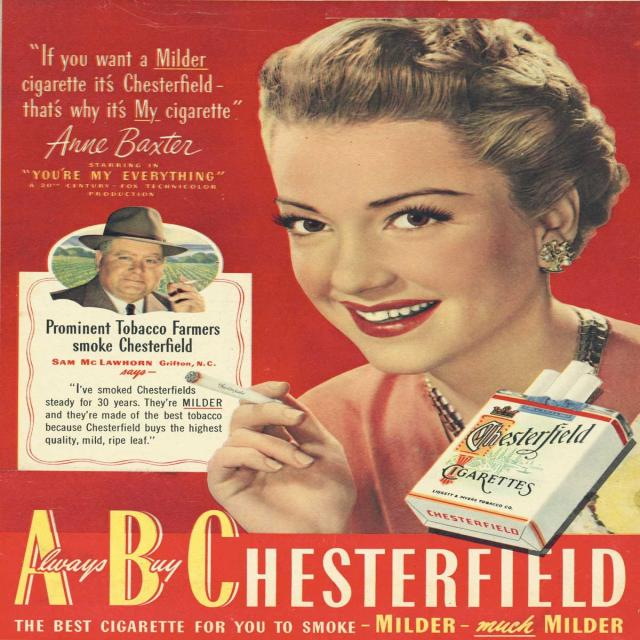Smooking: (180, 366, 288, 414)
